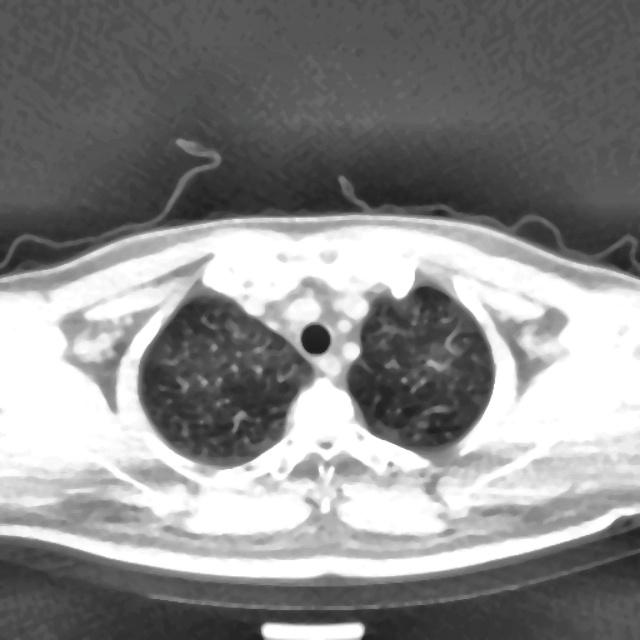covid: (0, 163, 639, 600)
